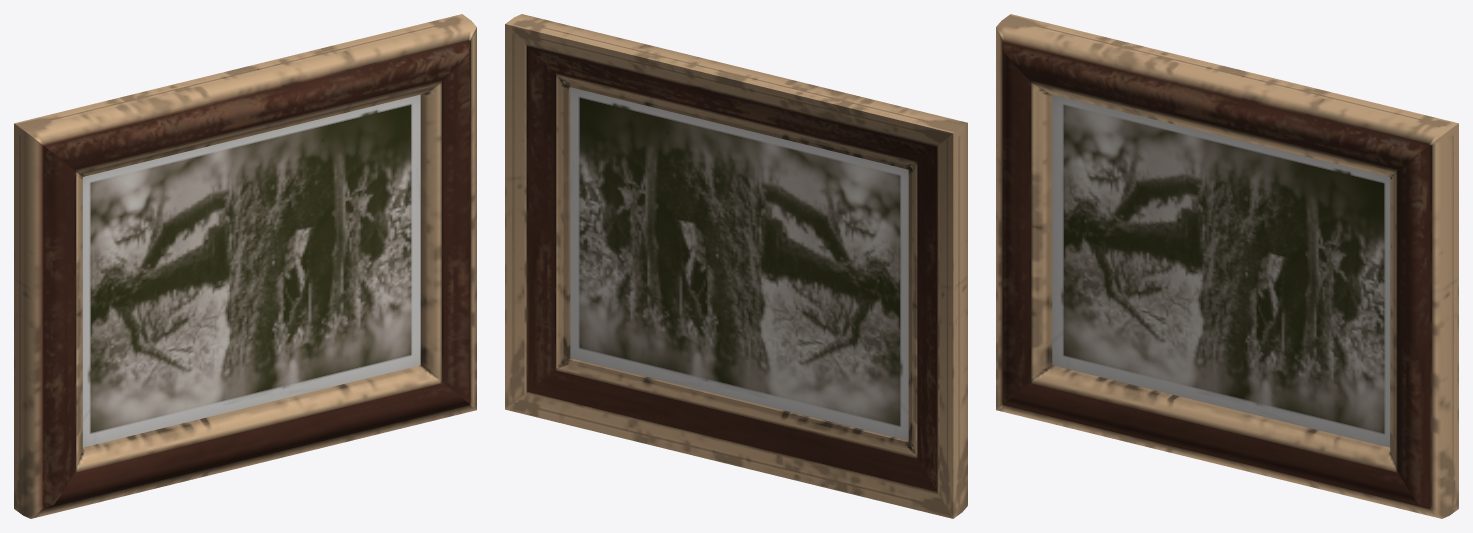
File: Picture_2_Small_Framed.FBX
3 renders of one model, left to right at view 1: azimuth 30°, elevation 25°; view 2: azimuth 150°, elevation 25°; view 3: azimuth 330°, elevation 25°, orthographic.
Parts seen in each view (by area): view 1: Picture_2_Small_Framed; view 2: Picture_2_Small_Framed; view 3: Picture_2_Small_Framed.
Part boxes in pixels (box(x1,y1,x2,y2)): Picture_2_Small_Framed: box(14, 14, 476, 518); Picture_2_Small_Framed: box(505, 14, 967, 518); Picture_2_Small_Framed: box(996, 14, 1458, 518).
Size of the model in its own units: 49.8 by 40.94 by 4.5.
